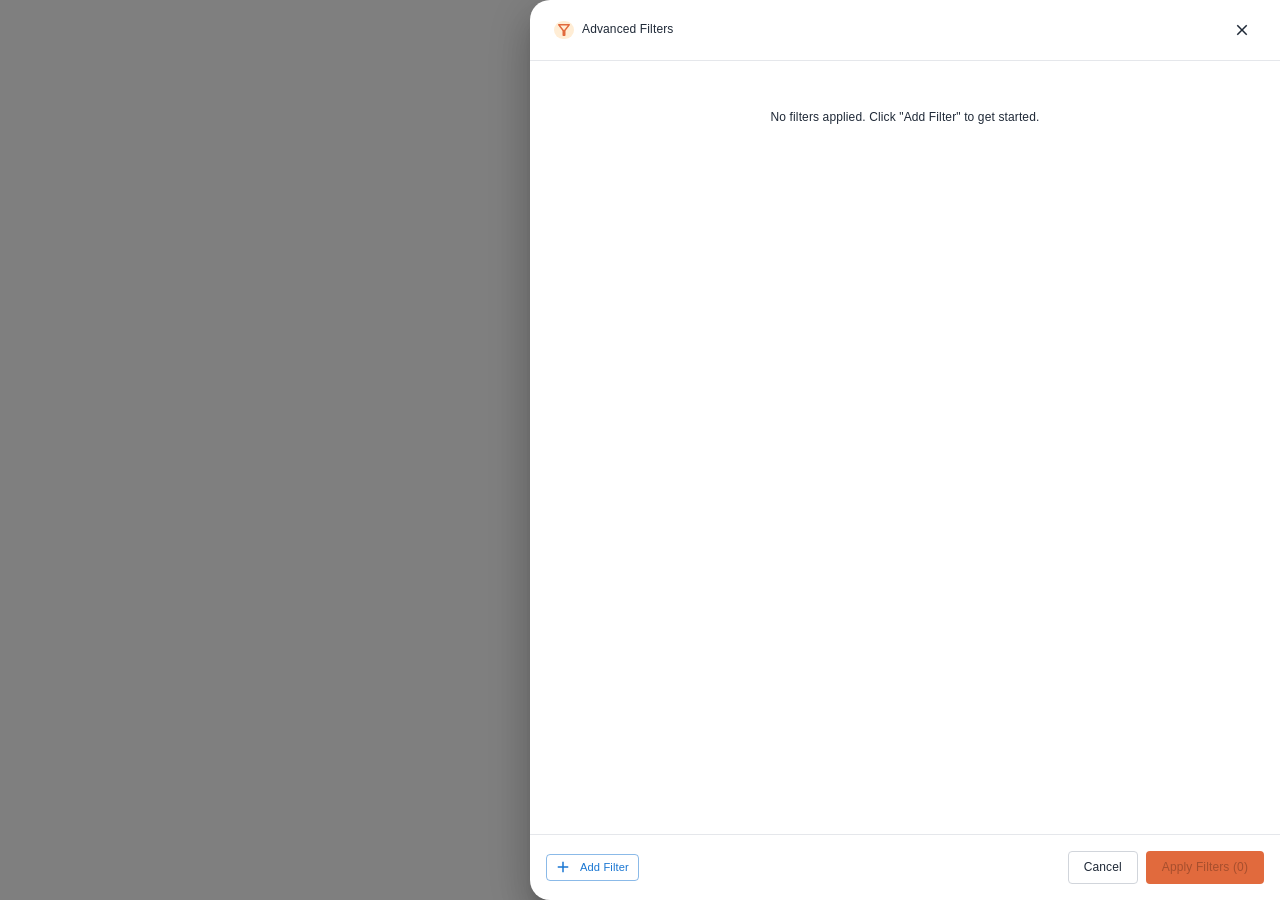
Test case: FilterPopup — interactions › shows AND/OR toggle after adding two rules
The image size is (1280, 900).
What coordinates should you click on to do the following:
click the button "Add Filter"
I would click on:
 (592, 868)
Its box is [546,854,639,881].
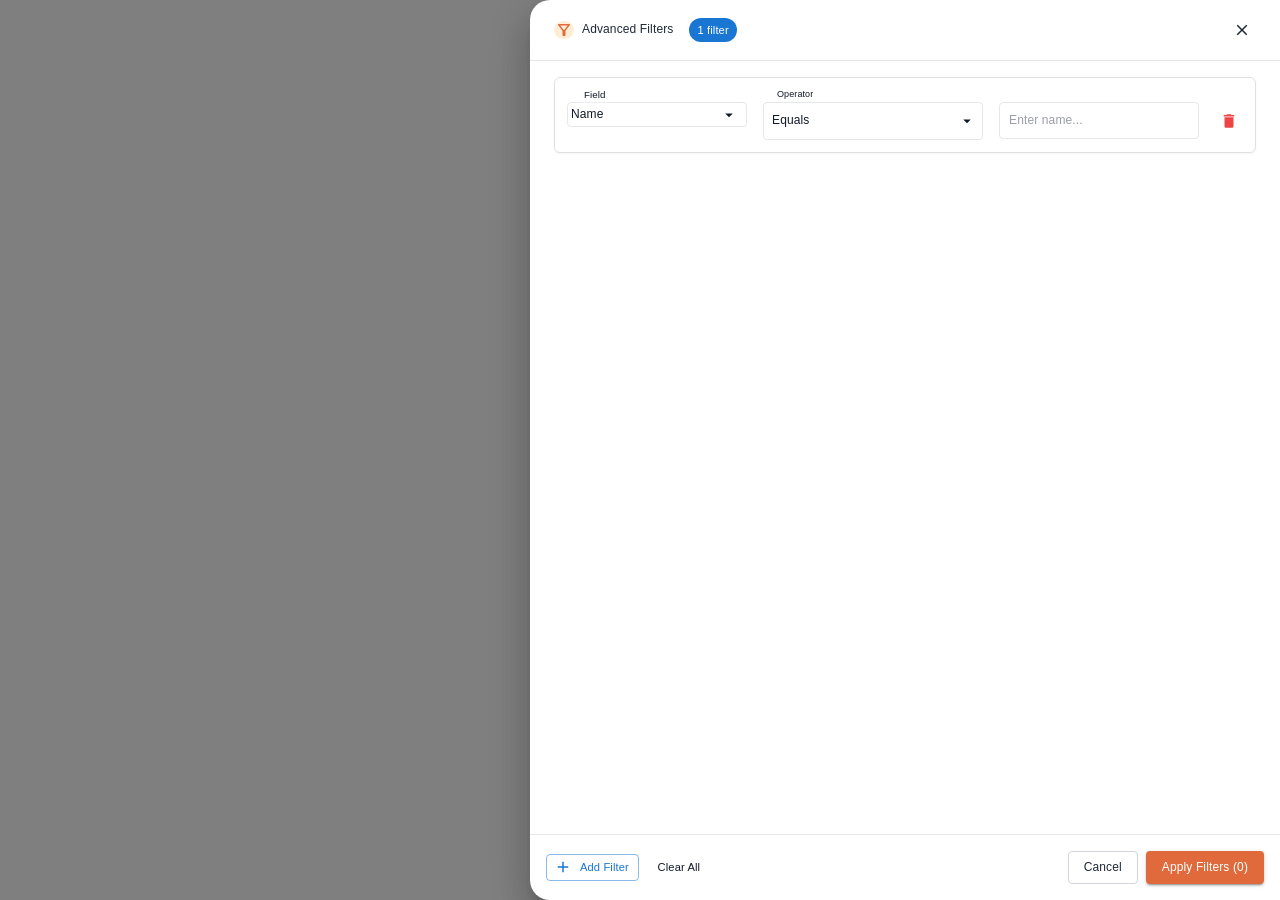
What coordinates should you click on to do the following:
click the button "Add Filter"
I would click on:
 (592, 868)
Its box is [546,854,639,881].
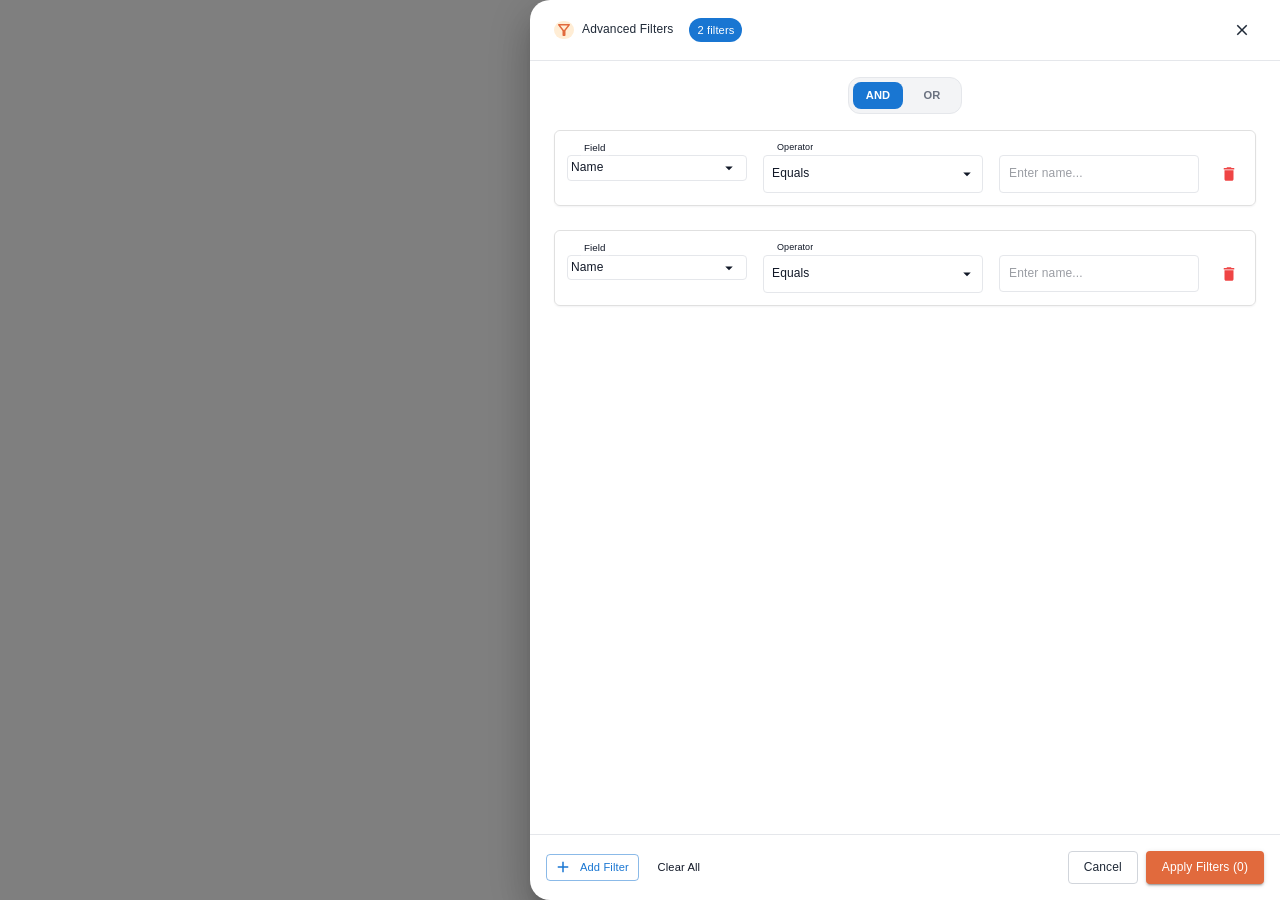
Check: the button "AND" is shown, box [853,82,903,110]
Check: the button "OR" is shown, box [907,82,957,110]
